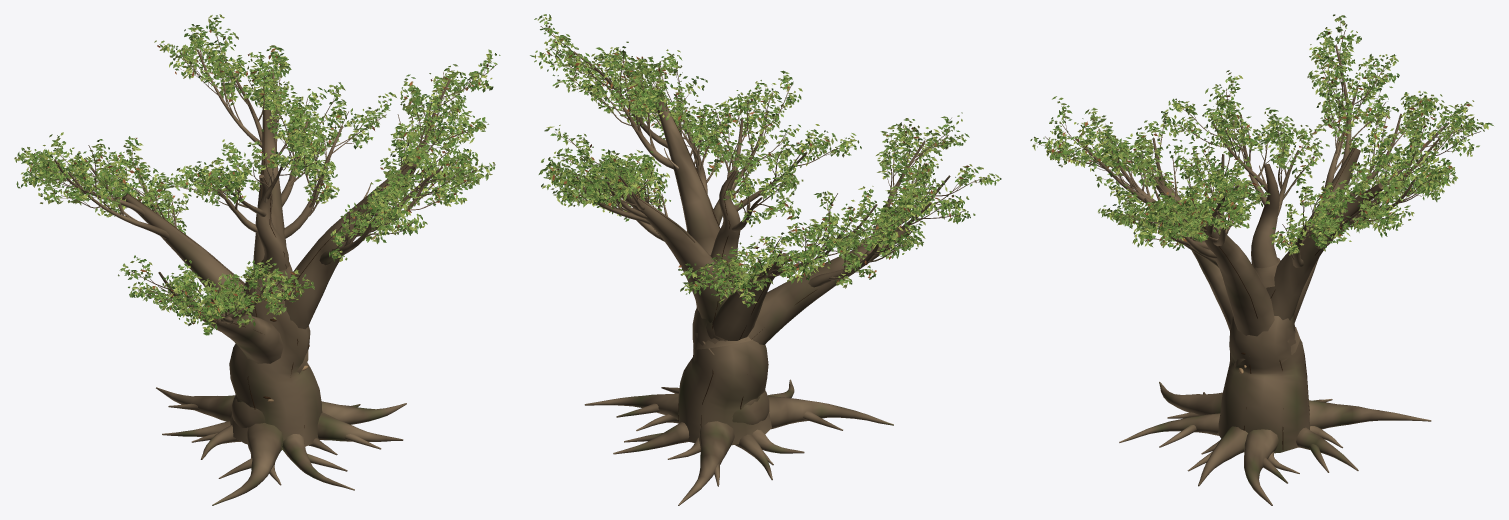
File: ancient_tree_07.glb
3 views of the same model, side by side, from view 1: azimuth 30°, elevation 25°; view 2: azimuth 150°, elevation 25°; view 3: azimuth 270°, elevation 25° (orthographic).
Visible parts, largest first — view 1: AncientLeaves, AncientTreeWood, FineBranches; view 2: AncientTreeWood, AncientLeaves, FineBranches, DirectedBarkGrooves; view 3: AncientTreeWood, AncientLeaves, FineBranches.
Part boxes in pixels (x1=…): AncientLeaves: x1=14, y1=14, x2=500, y2=335; AncientTreeWood: x1=25, y1=25, x2=496, y2=505; FineBranches: x1=20, y1=20, x2=492, y2=325; AncientTreeWood: x1=540, y1=26, x2=986, y2=505; AncientLeaves: x1=530, y1=14, x2=1001, y2=307; FineBranches: x1=542, y1=17, x2=991, y2=292; DirectedBarkGrooves: x1=635, y1=104, x2=903, y2=426; AncientTreeWood: x1=1045, y1=30, x2=1480, y2=505; AncientLeaves: x1=1030, y1=14, x2=1493, y2=255; FineBranches: x1=1035, y1=20, x2=1483, y2=250.
Size of the model in its own units: 24.02 by 18.95 by 22.22.
